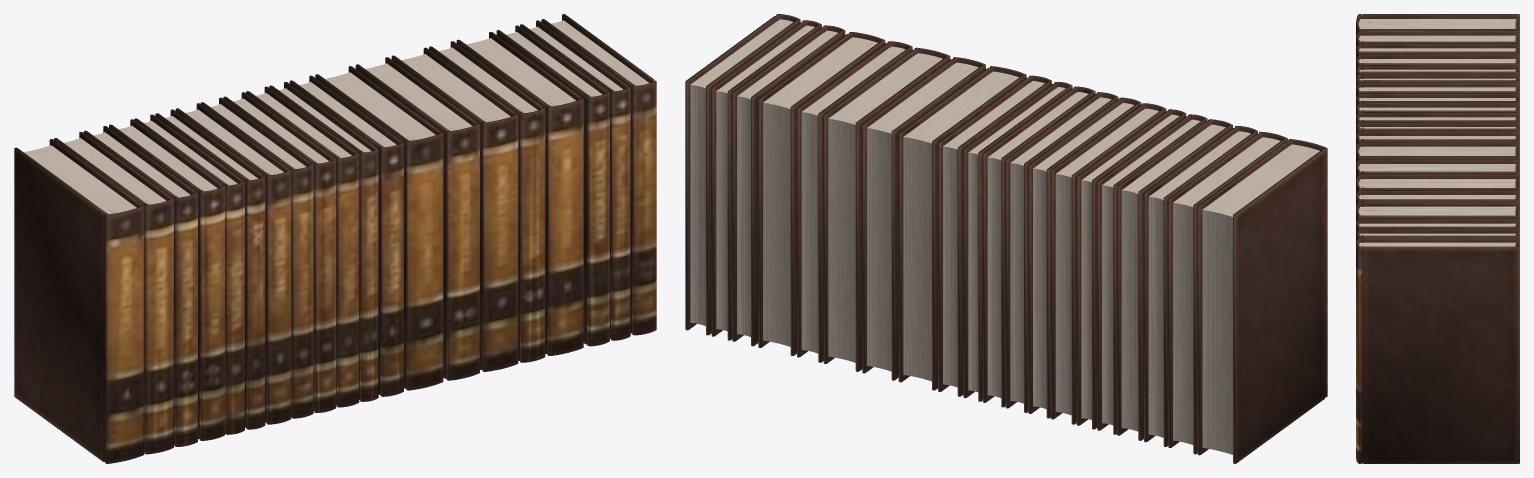
The model's file is book_encyclopedia_set_01.glb.
The picture shows the model from 3 angles, left to right: view 1: azimuth 30°, elevation 25°; view 2: azimuth 150°, elevation 25°; view 3: azimuth 270°, elevation 25°; orthographic projection. The views are drawn at different scales.
Parts seen in each view (by area): view 1: book_encyclopedia_set_01_book01, book_encyclopedia_set_01_book13, book_encyclopedia_set_01_book15, book_encyclopedia_set_01_book17, book_encyclopedia_set_01_book14, book_encyclopedia_set_01_book02, book_encyclopedia_set_01_book16, book_encyclopedia_set_01_book04, book_encyclopedia_set_01_book20, book_encyclopedia_set_01_book18, book_encyclopedia_set_01_book07, book_encyclopedia_set_01_book12 (+8 smaller); view 2: book_encyclopedia_set_01_book01, book_encyclopedia_set_01_book13, book_encyclopedia_set_01_book15, book_encyclopedia_set_01_book17, book_encyclopedia_set_01_book14, book_encyclopedia_set_01_book02, book_encyclopedia_set_01_book04, book_encyclopedia_set_01_book16, book_encyclopedia_set_01_book18, book_encyclopedia_set_01_book20, book_encyclopedia_set_01_book07, book_encyclopedia_set_01_book12 (+8 smaller); view 3: book_encyclopedia_set_01_book20, book_encyclopedia_set_01_book13, book_encyclopedia_set_01_book01, book_encyclopedia_set_01_book17, book_encyclopedia_set_01_book15, book_encyclopedia_set_01_book14, book_encyclopedia_set_01_book02, book_encyclopedia_set_01_book16, book_encyclopedia_set_01_book03, book_encyclopedia_set_01_book04, book_encyclopedia_set_01_book12, book_encyclopedia_set_01_book07 (+8 smaller).
Part boxes in pixels (x1,y1,x2,y2): book_encyclopedia_set_01_book01: (14, 139, 144, 463); book_encyclopedia_set_01_book13: (315, 66, 443, 390); book_encyclopedia_set_01_book15: (391, 47, 518, 371); book_encyclopedia_set_01_book17: (456, 31, 583, 355); book_encyclopedia_set_01_book14: (355, 57, 479, 380); book_encyclopedia_set_01_book02: (54, 132, 173, 454); book_encyclopedia_set_01_book16: (429, 41, 545, 362); book_encyclopedia_set_01_book04: (109, 119, 224, 440); book_encyclopedia_set_01_book20: (541, 14, 656, 335); book_encyclopedia_set_01_book18: (496, 25, 609, 346); book_encyclopedia_set_01_book07: (175, 103, 291, 424); book_encyclopedia_set_01_book12: (289, 75, 403, 396); book_encyclopedia_set_01_book01: (1197, 139, 1327, 463); book_encyclopedia_set_01_book13: (898, 66, 1026, 390); book_encyclopedia_set_01_book15: (823, 47, 950, 371); book_encyclopedia_set_01_book17: (758, 32, 885, 355); book_encyclopedia_set_01_book14: (862, 57, 985, 380); book_encyclopedia_set_01_book02: (1168, 131, 1287, 454); book_encyclopedia_set_01_book04: (1117, 119, 1232, 440); book_encyclopedia_set_01_book16: (797, 41, 912, 362); book_encyclopedia_set_01_book18: (732, 25, 845, 346); book_encyclopedia_set_01_book20: (685, 14, 800, 335); book_encyclopedia_set_01_book07: (1051, 103, 1166, 424); book_encyclopedia_set_01_book12: (938, 75, 1051, 396); book_encyclopedia_set_01_book20: (1356, 238, 1519, 463); book_encyclopedia_set_01_book13: (1356, 142, 1519, 165); book_encyclopedia_set_01_book01: (1356, 14, 1519, 35); book_encyclopedia_set_01_book17: (1356, 202, 1519, 222); book_encyclopedia_set_01_book15: (1356, 174, 1519, 195); book_encyclopedia_set_01_book14: (1356, 159, 1519, 181); book_encyclopedia_set_01_book02: (1356, 30, 1519, 47); book_encyclopedia_set_01_book16: (1356, 190, 1519, 208); book_encyclopedia_set_01_book03: (1356, 43, 1519, 59); book_encyclopedia_set_01_book04: (1356, 54, 1519, 86); book_encyclopedia_set_01_book12: (1356, 131, 1519, 149); book_encyclopedia_set_01_book07: (1356, 82, 1519, 96).
Bounding box in the file's own units: 0.5513 × 0.2374 × 0.1631.
2 materials, 2 textured.
